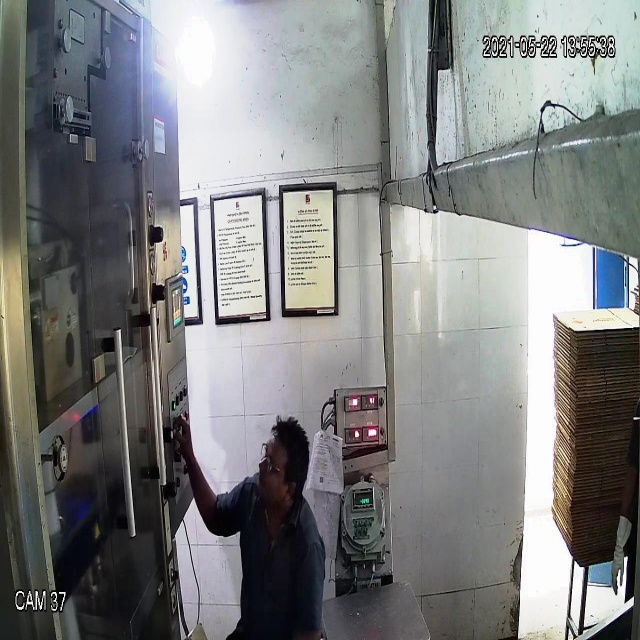Gafas: (257, 437, 298, 487)
